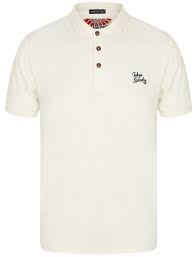C_polo shirt: (10, 3, 183, 255)
